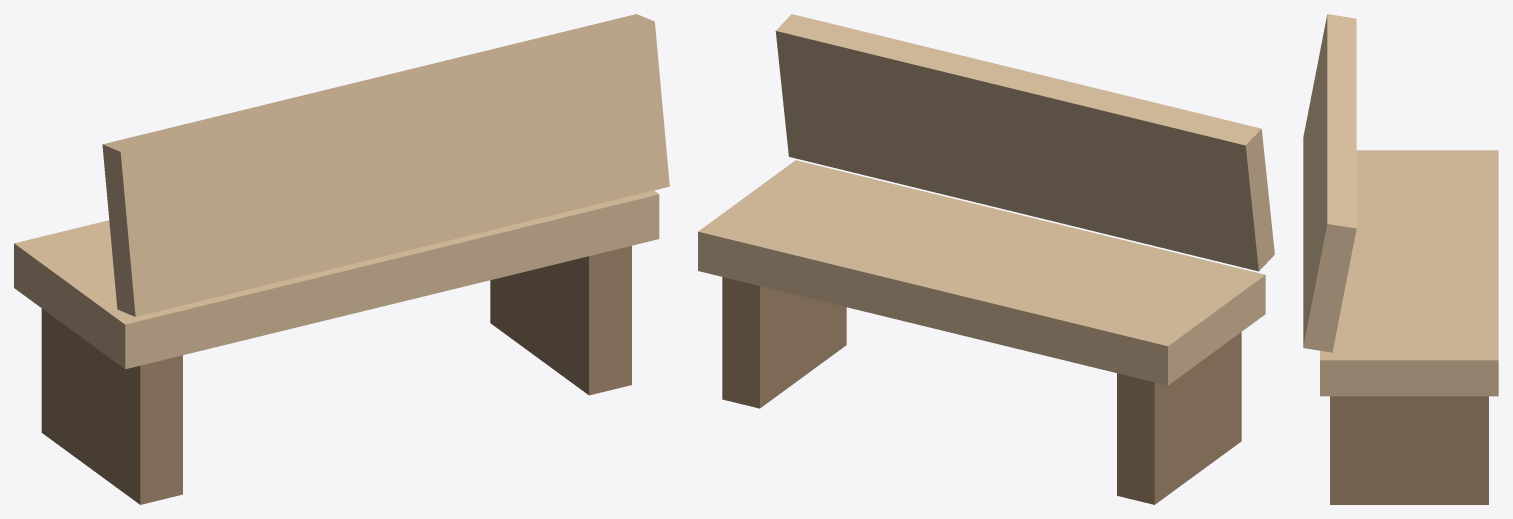
File: Bench.glb
3 views of the same model, side by side, from view 1: azimuth 30°, elevation 25°; view 2: azimuth 150°, elevation 25°; view 3: azimuth 270°, elevation 25° (orthographic). The views are drawn at different scales.
Parts seen in each view (by area): view 1: Bench_1, Bench_0; view 2: Bench_1, Bench_0; view 3: Bench_1, Bench_0.
Part boxes in pixels (bbox=[...]): Bench_1: bbox=[14, 14, 669, 369]; Bench_0: bbox=[41, 245, 631, 504]; Bench_1: bbox=[698, 14, 1274, 385]; Bench_0: bbox=[722, 277, 1241, 504]; Bench_1: bbox=[1303, 14, 1498, 396]; Bench_0: bbox=[1330, 396, 1488, 504].
Bounding box in the file's own units: 5 × 3.22 × 1.97.
